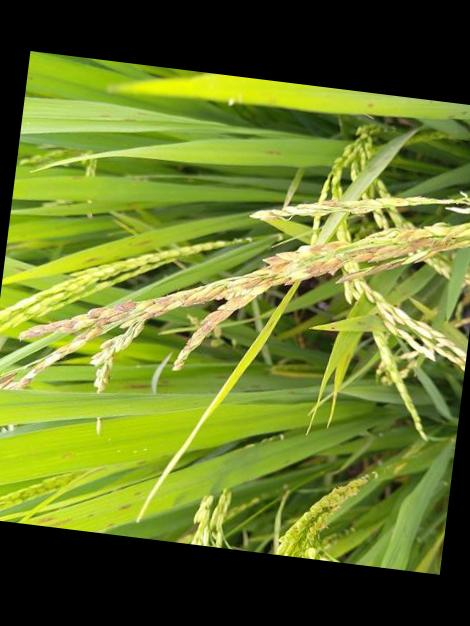Panicle Blight: (17, 282, 221, 394), (172, 295, 252, 370), (350, 238, 457, 259), (335, 260, 406, 284), (242, 268, 287, 292), (301, 257, 343, 278), (395, 227, 433, 243), (262, 255, 291, 274), (309, 242, 348, 253), (251, 210, 283, 220), (316, 199, 346, 208), (0, 373, 15, 388), (284, 279, 294, 286)
